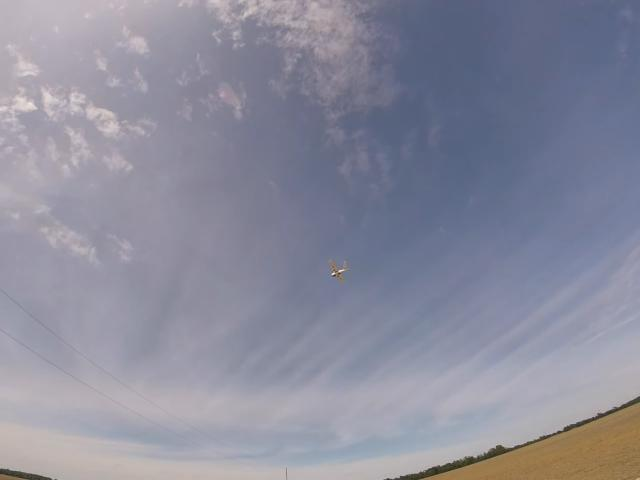plane: (328, 257, 350, 282)
